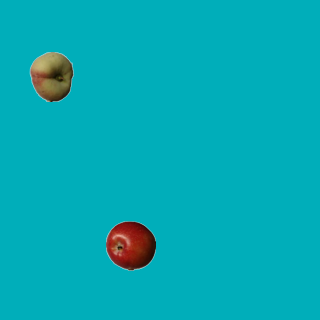Apple Braeburn: (105, 220, 155, 270)
Peach Flat: (26, 51, 76, 101)
